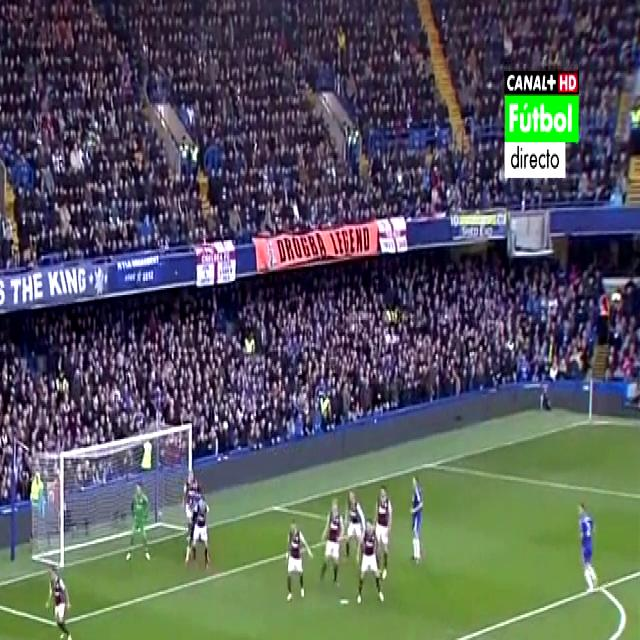goalkeeper: (126, 480, 156, 563)
soccer-player: (187, 486, 220, 585), (571, 498, 601, 602), (41, 560, 77, 640), (284, 514, 314, 602), (318, 488, 343, 591), (356, 522, 386, 606), (404, 470, 429, 565), (341, 470, 367, 559), (374, 480, 396, 563)
